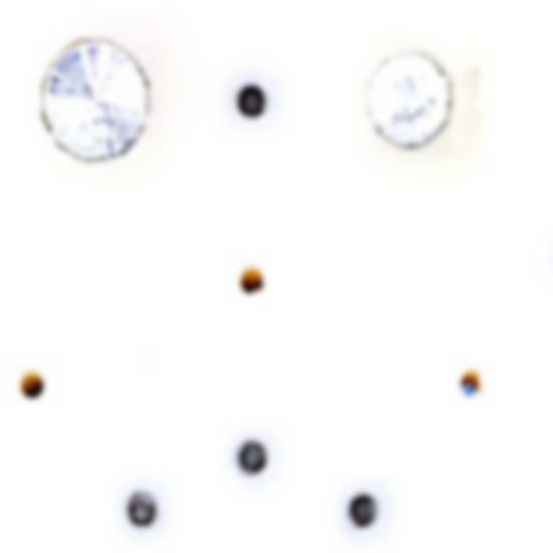abnormal: (17, 18, 184, 184), (329, 24, 496, 184)
cancer: (105, 467, 192, 547), (214, 62, 298, 142), (223, 415, 289, 499), (324, 474, 402, 542)
normal: (2, 356, 74, 418), (444, 359, 499, 413), (236, 253, 287, 308)
